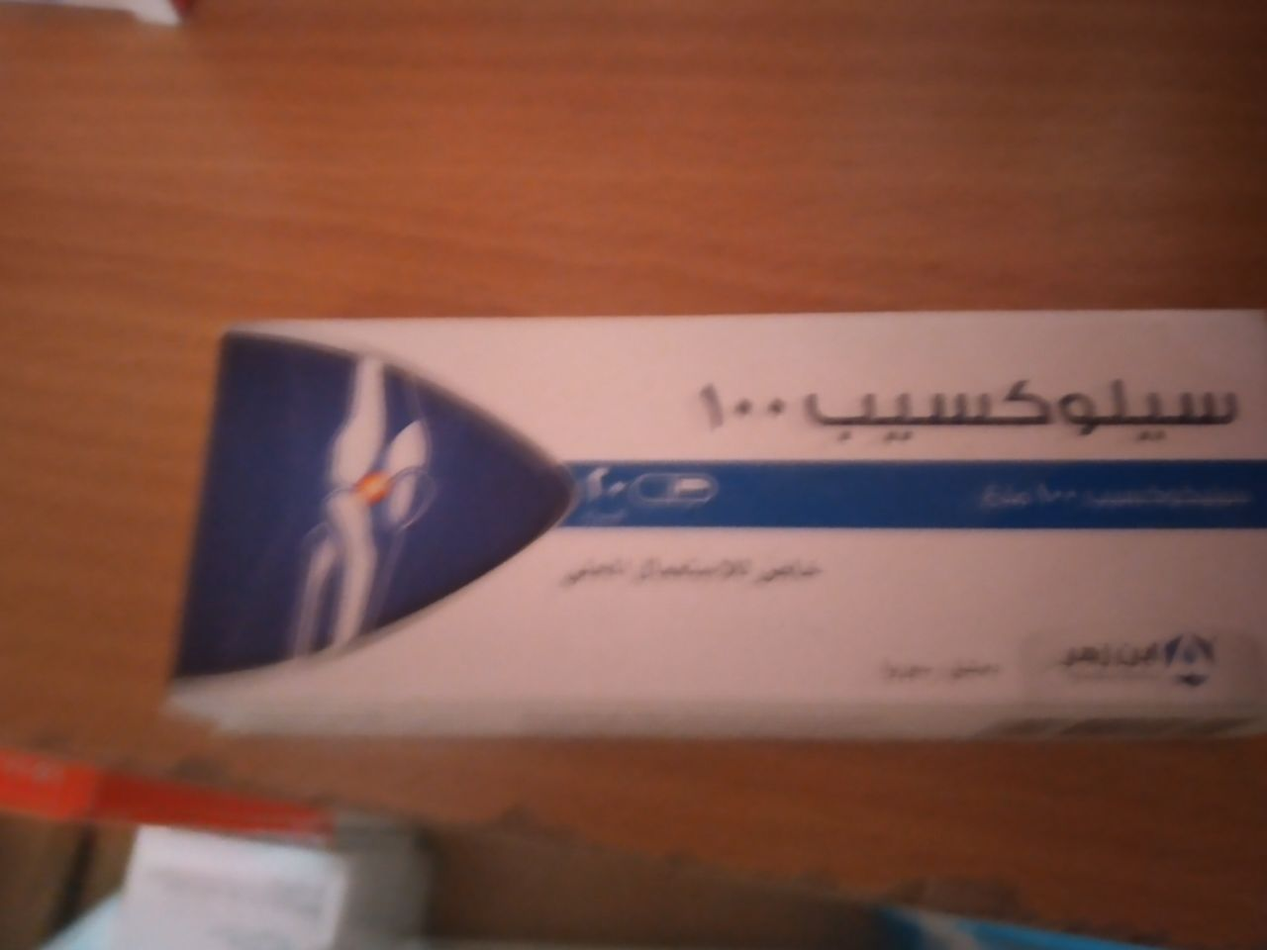Medicine: (168, 282, 1267, 735)
